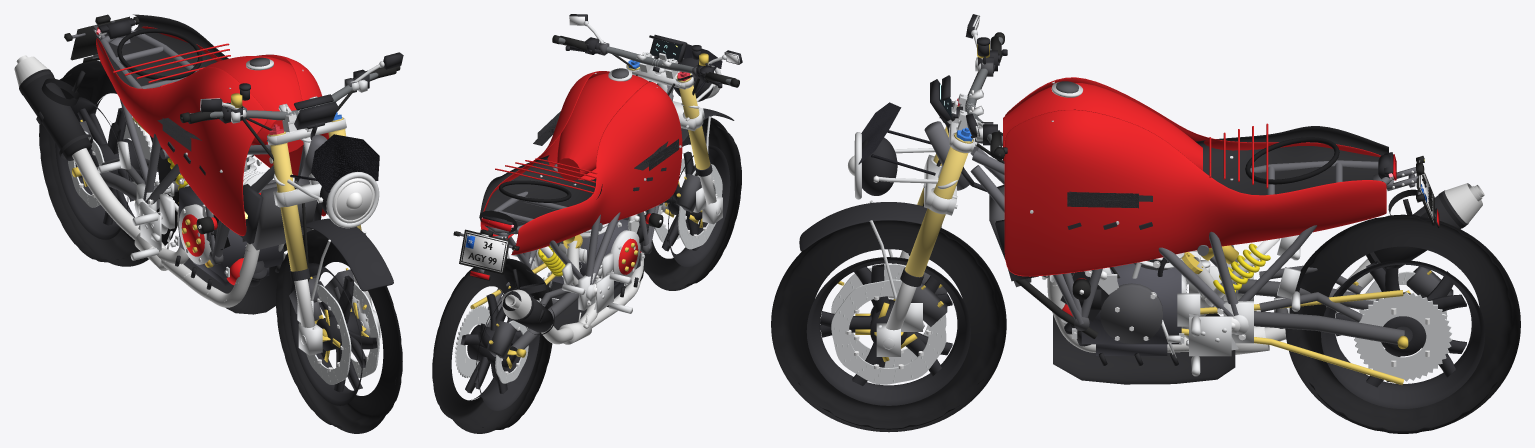
The model's file is EnginMotor.fbx.
3 renders of one model, left to right at view 1: azimuth 30°, elevation 25°; view 2: azimuth 150°, elevation 25°; view 3: azimuth 270°, elevation 25°, orthographic. The views are drawn at different scales.
Visible parts, largest first — view 1: Body, FrontWheel, RearWheel; view 2: Body, RearWheel, FrontWheel; view 3: Body, FrontWheel, RearWheel.
Part boxes in pixels (left/top/right/bottom): Body: left=14, top=14, right=403, bottom=355; FrontWheel: left=276, top=229, right=402, bottom=433; RearWheel: left=39, top=61, right=178, bottom=266; Body: left=453, top=14, right=742, bottom=359; RearWheel: left=432, top=258, right=553, bottom=433; FrontWheel: left=644, top=117, right=741, bottom=290; Body: left=799, top=14, right=1484, bottom=384; FrontWheel: left=771, top=220, right=1006, bottom=432; RearWheel: left=1285, top=214, right=1520, bottom=433.
Size of the model in its own units: 105 by 148 by 277.
